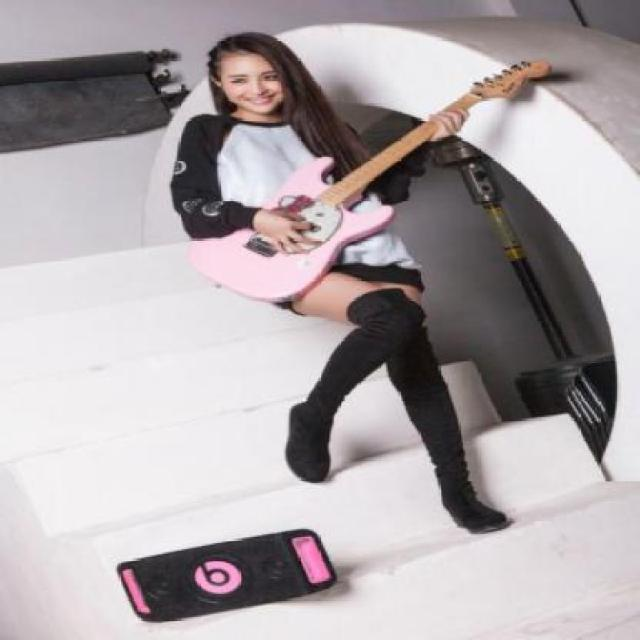Person: (147, 22, 550, 595)
